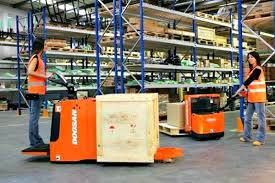Pallet Jack: (17, 72, 192, 174), (160, 92, 245, 142)
